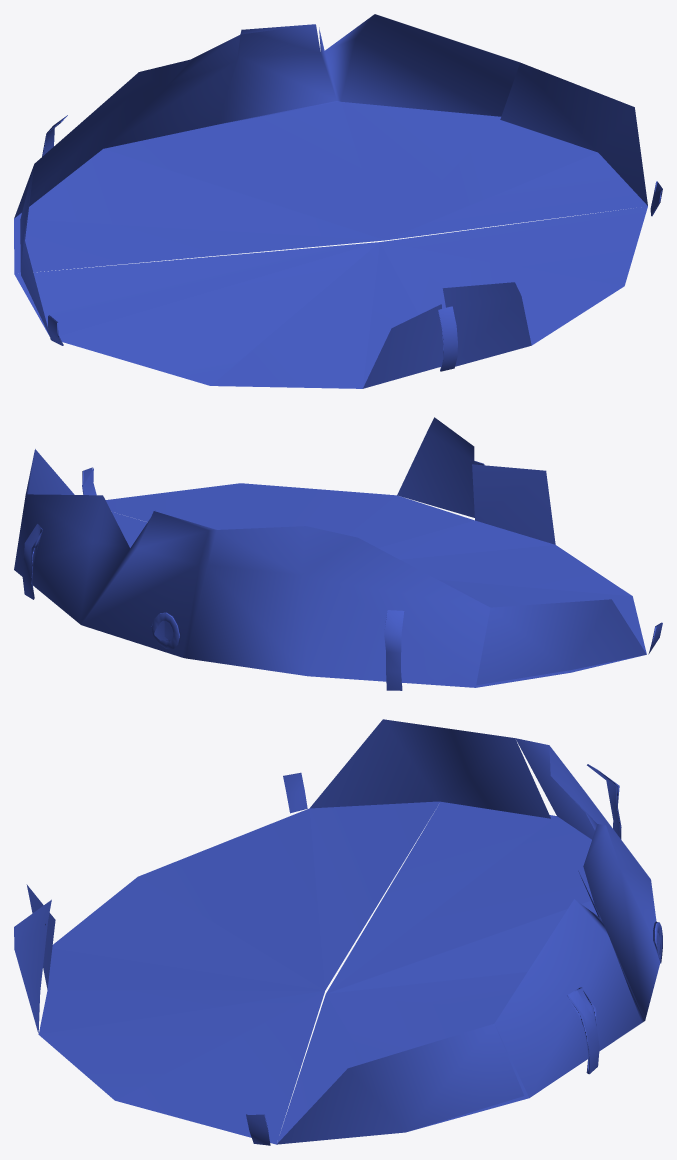
Rendered from hip.glb.
3 views of the same model, one above another, from view 1: azimuth 30°, elevation 25°; view 2: azimuth 150°, elevation 25°; view 3: azimuth 270°, elevation 25° (orthographic). The views are drawn at different scales.
Parts seen in each view (by area): view 1: shorts-blue_HIP; view 2: shorts-blue_HIP; view 3: shorts-blue_HIP.
Part boxes in pixels (left/top/right/bottom): shorts-blue_HIP: left=14, top=14, right=662, bottom=388; shorts-blue_HIP: left=14, top=417, right=662, bottom=690; shorts-blue_HIP: left=14, top=719, right=662, bottom=1145.
Size of the model in its own units: 0.4262 by 0.1108 by 0.334.
Materials: 1 (1 with a texture image).
